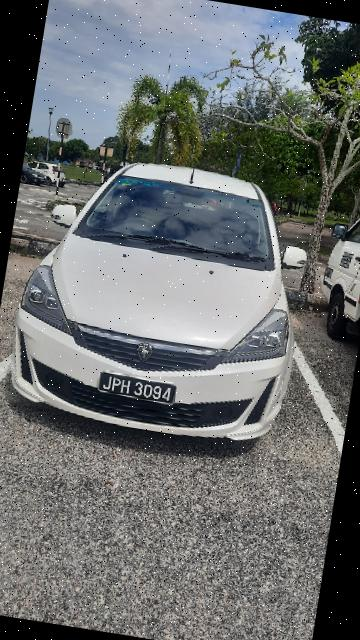License_Plate: (95, 370, 179, 410)
car: (1, 138, 327, 459)
